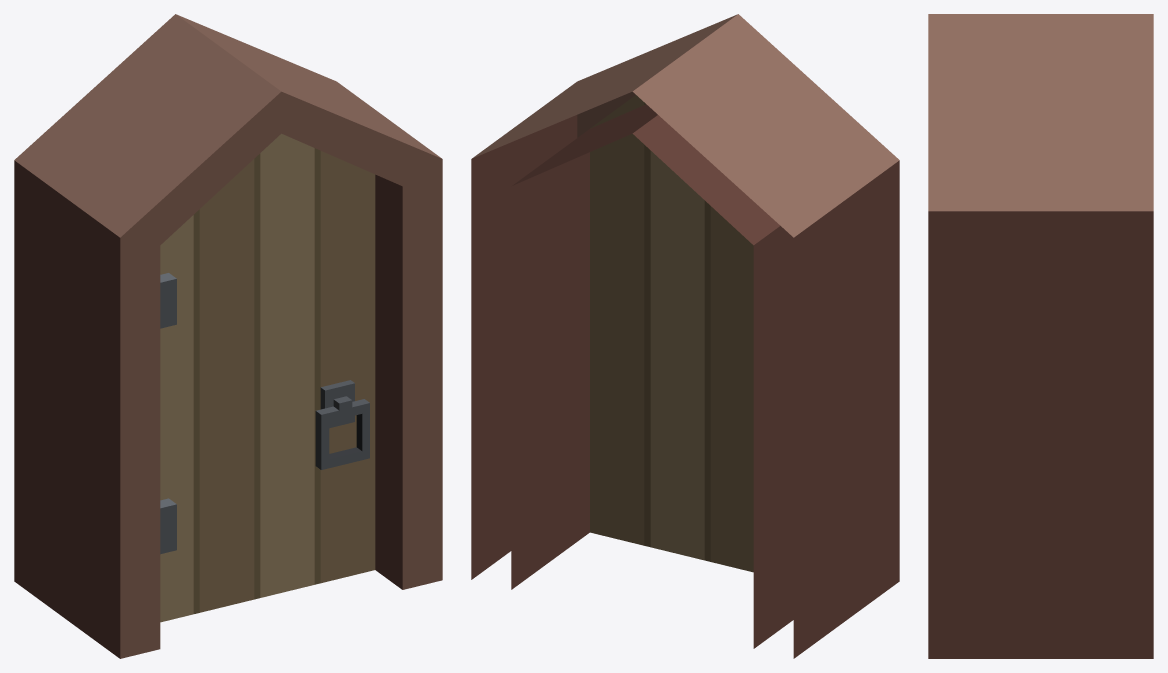
File: SF_Bld_Elven_Door_01.fbx
The picture shows the model from 3 angles, left to right: view 1: azimuth 30°, elevation 25°; view 2: azimuth 150°, elevation 25°; view 3: azimuth 270°, elevation 25°; orthographic projection. The views are drawn at different scales.
Visible parts, largest first — view 1: SF_Bld_Elven_Door_01; view 2: SF_Bld_Elven_Door_01; view 3: SF_Bld_Elven_Door_01.
Boxes of the visible parts, left/top/right/bottom form: SF_Bld_Elven_Door_01: left=14, top=14, right=442, bottom=658; SF_Bld_Elven_Door_01: left=471, top=14, right=899, bottom=658; SF_Bld_Elven_Door_01: left=928, top=14, right=1153, bottom=658.
Size of the model in its own units: 2.81 by 4.39 by 1.6.
